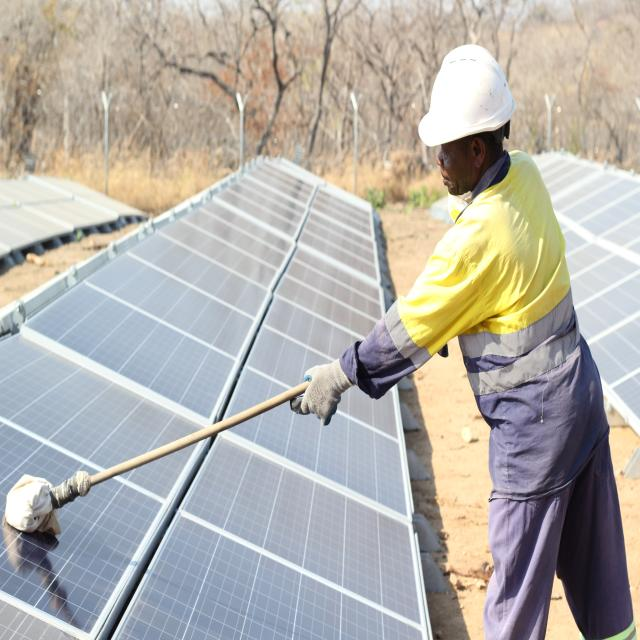dust-solar-panel: (0, 158, 431, 640)
